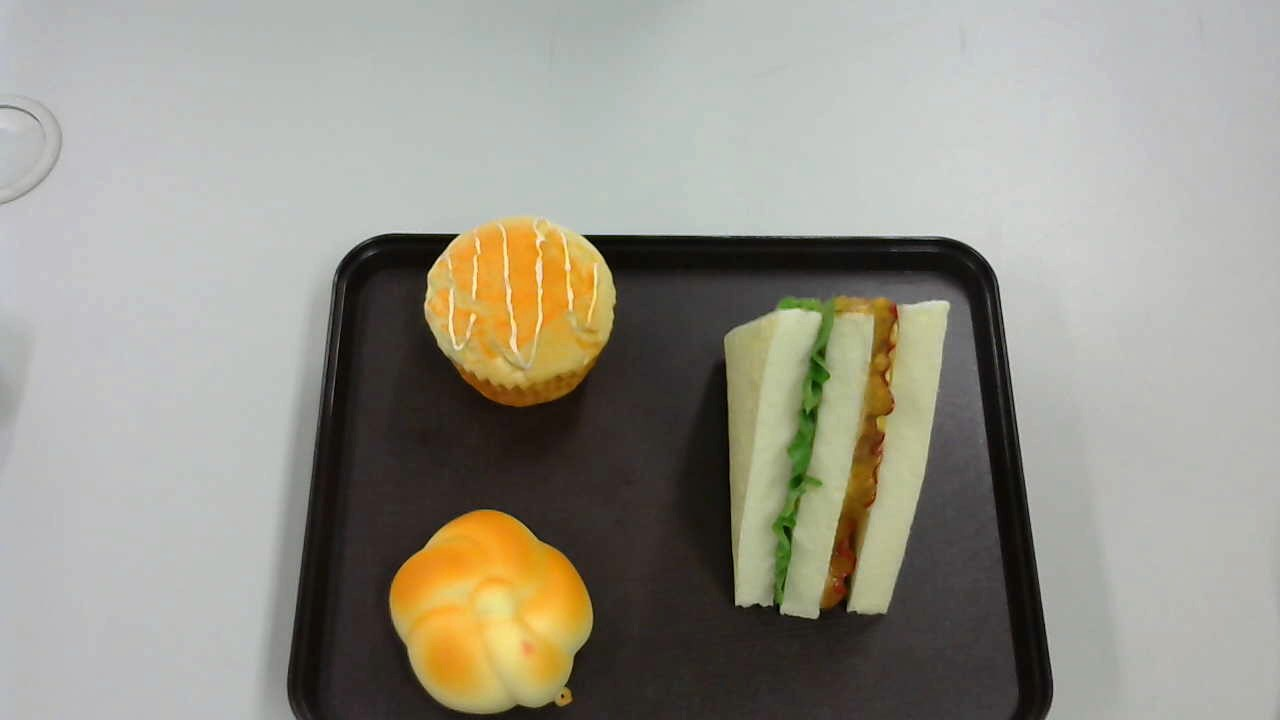cupcake: (425, 215, 615, 407)
sandwich: (721, 294, 952, 619)
twist bread: (390, 508, 594, 712)
